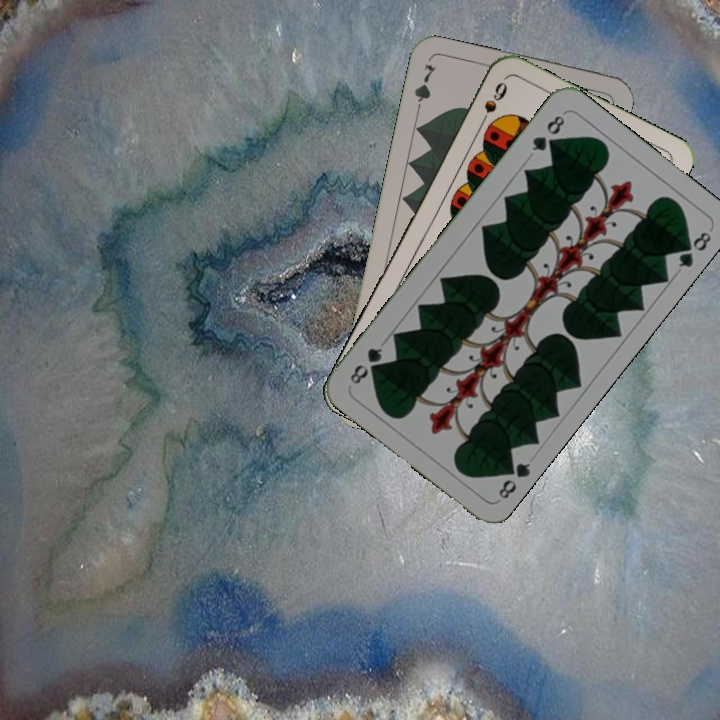G7: (410, 60, 439, 118)
G8: (494, 456, 534, 502), (527, 111, 568, 154)
S9: (475, 77, 510, 131)
